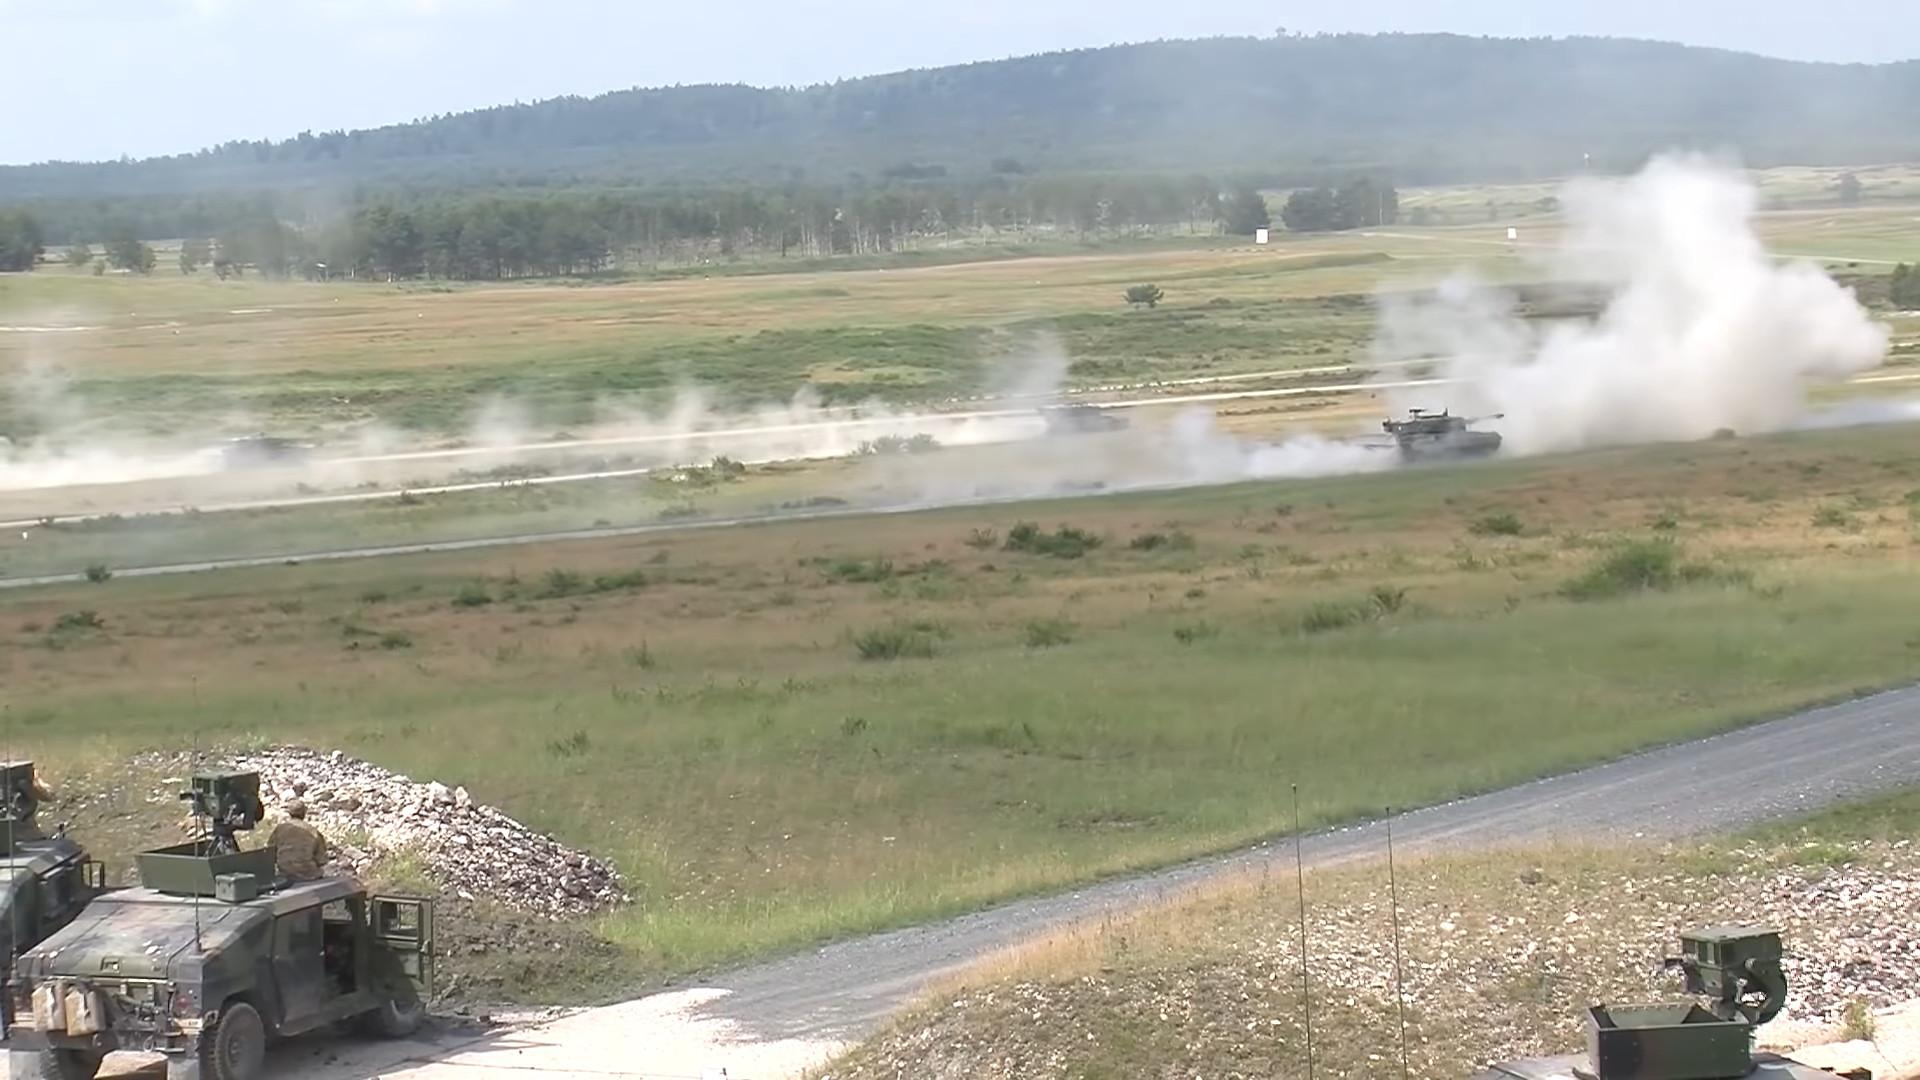tank: (1361, 414, 1504, 462), (1041, 406, 1136, 434)
